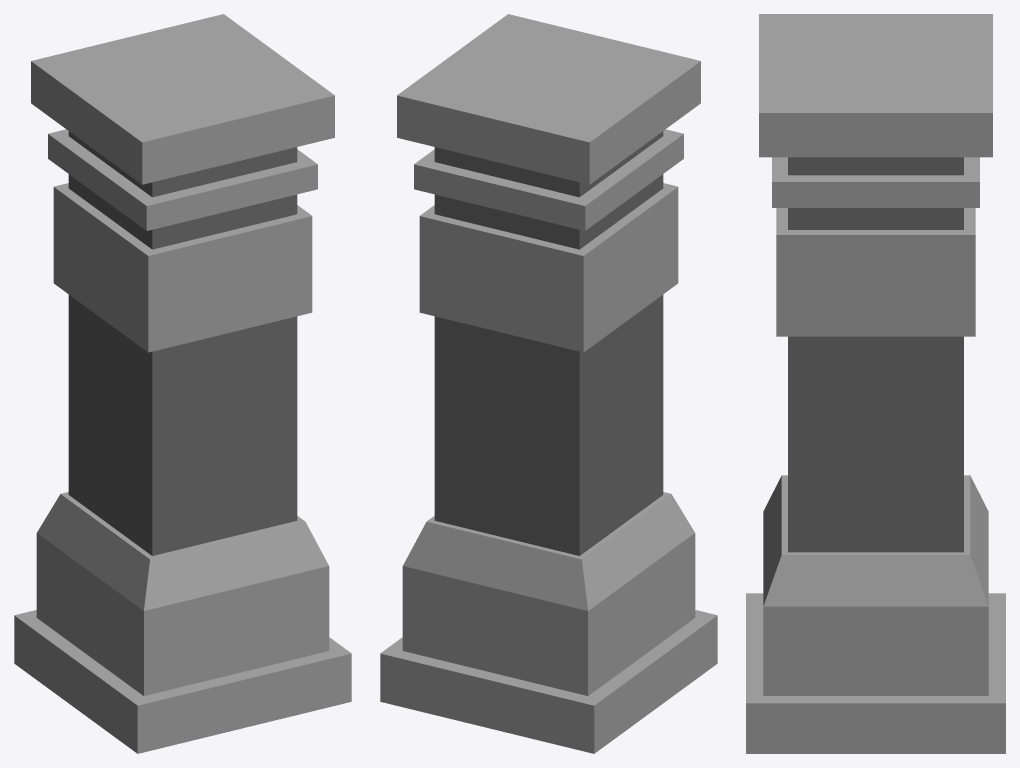
The model's file is Pillar 02.FBX.
The picture shows the model from 3 angles, left to right: view 1: azimuth 30°, elevation 25°; view 2: azimuth 150°, elevation 25°; view 3: azimuth 270°, elevation 25°; orthographic projection. The views are drawn at different scales.
Parts seen in each view (by area): view 1: Pillar 02; view 2: Pillar 02; view 3: Pillar 02.
Part boxes in pixels (x1,y1,x2,y2): Pillar 02: (14,14,351,753); Pillar 02: (380,14,717,753); Pillar 02: (746,14,1005,753).
Size of the model in its own units: 98.58 by 266 by 98.58.
